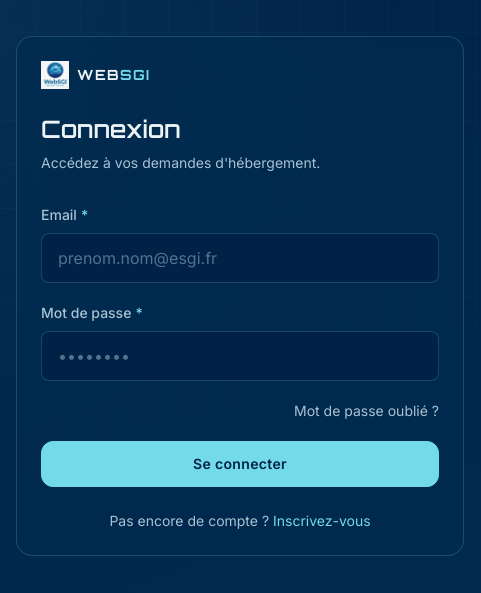
Test case: Login › should display the error message when the login fails
Type "alice@example.com" into the field labelled "Email*" at [240, 258], box 41,233 -> 439,283
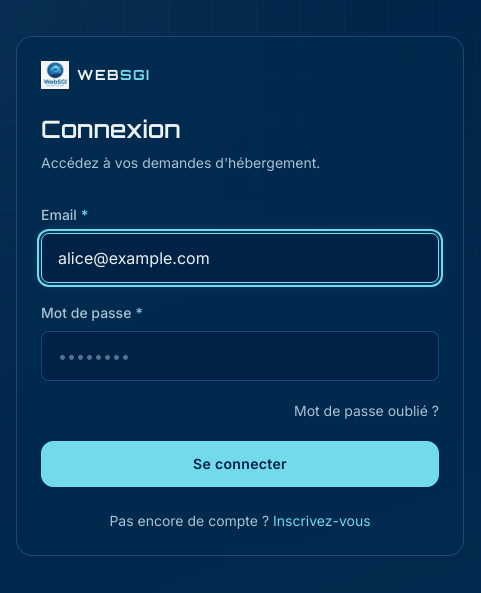
Type "motdepasse123" into the password field labelled "Mot de passe*" at [240, 356], box 41,331 -> 439,381
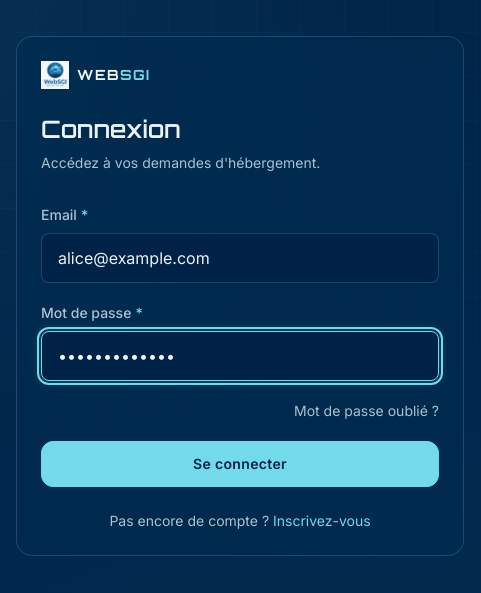
Click the button "Se connecter" at [240, 464], box 41,441 -> 439,487
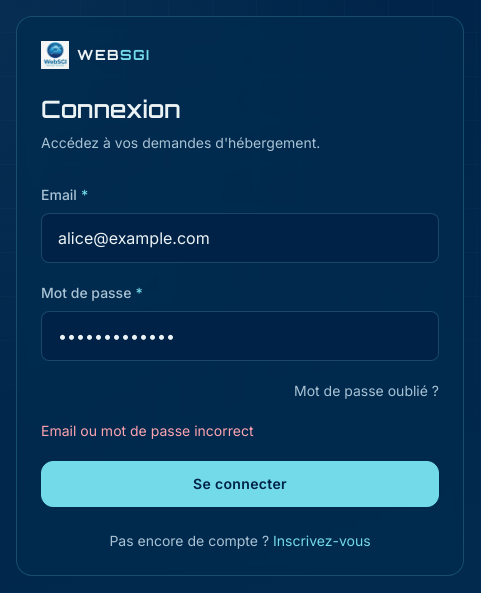
Expected: the text "Email ou mot de passe incorrect" is shown, 41,422 -> 254,439
